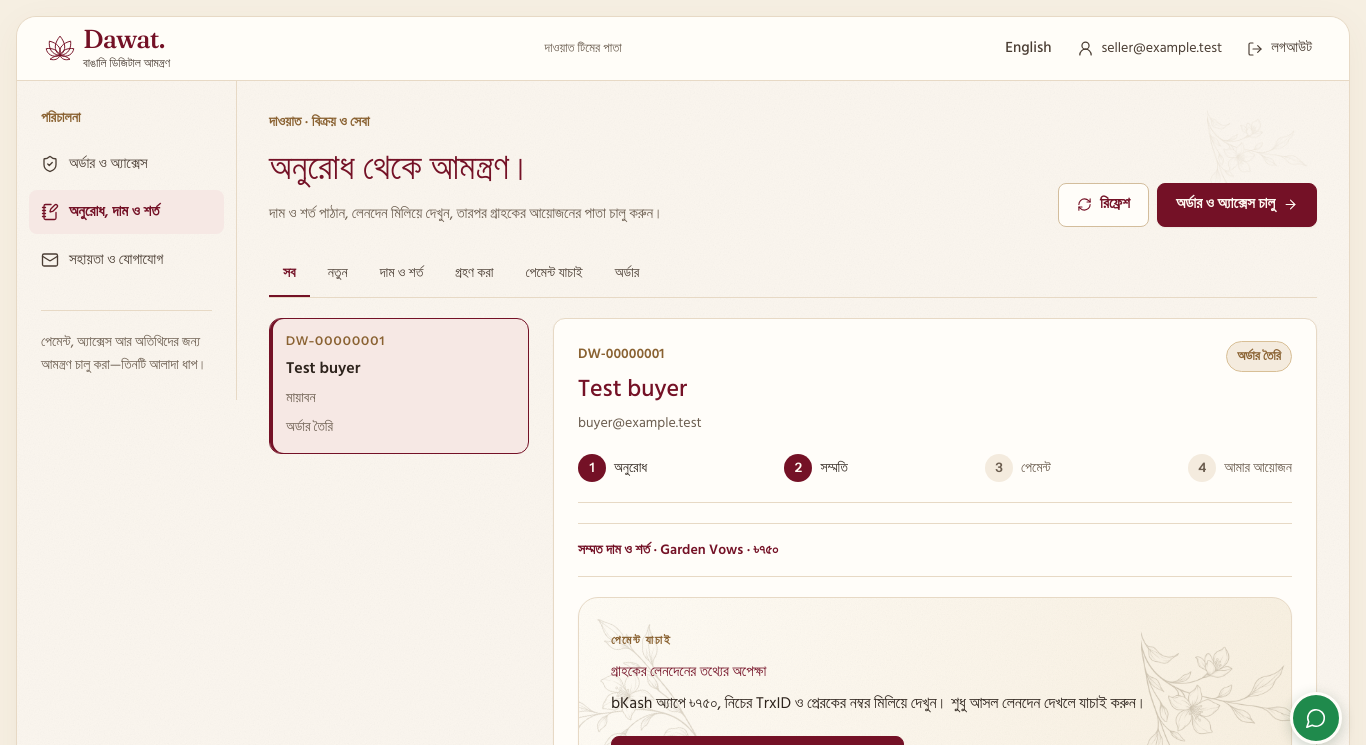
Scenario: hides details when the selected filter has no matching request
This screenshot has width=1366, height=745.
Expected: the heading "Test buyer" is shown, [578,372,702,407]
Click the button "দাম ও শর্ত". click: (402, 274)
box: [366,251,437,297]
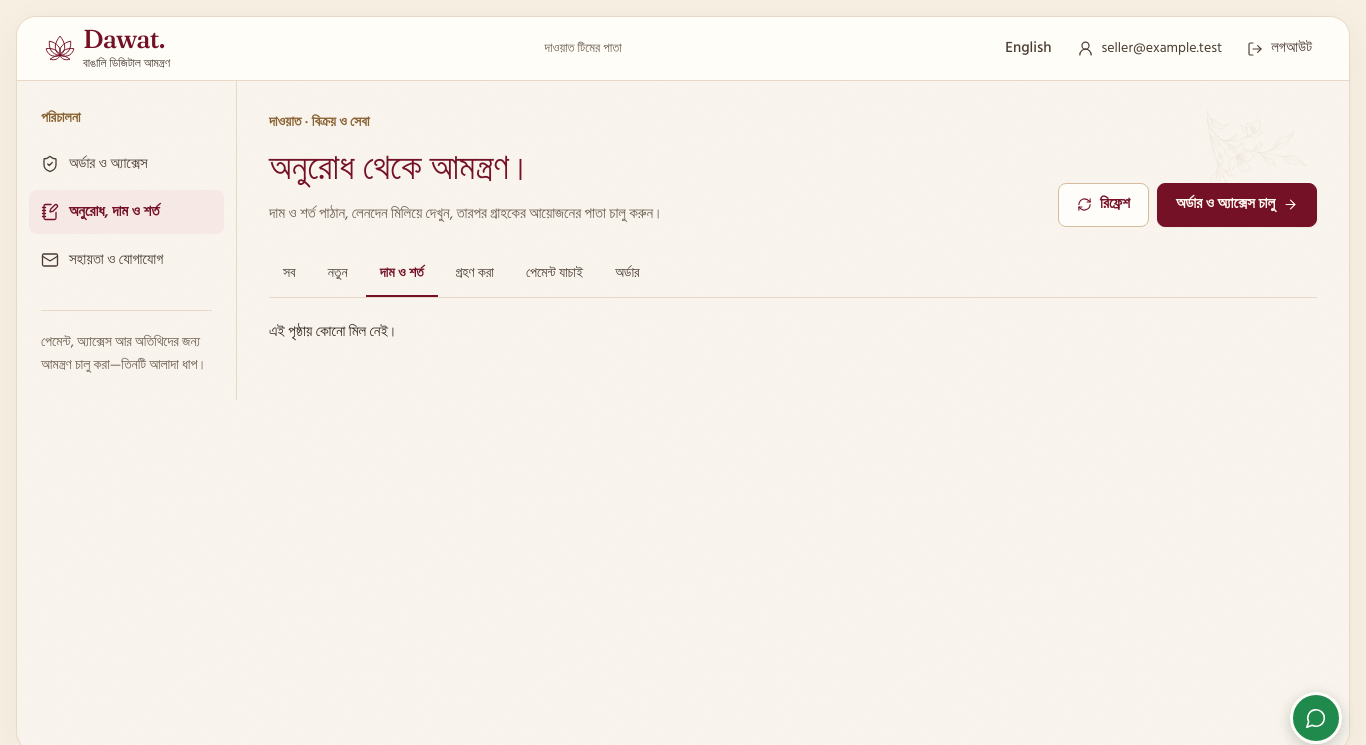
Now the button "Test buyer" is gone
